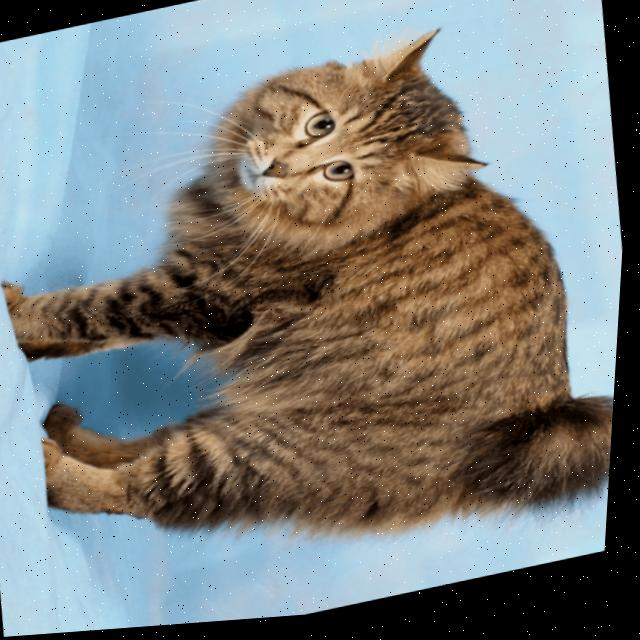American Bobtail: (0, 0, 638, 634)
